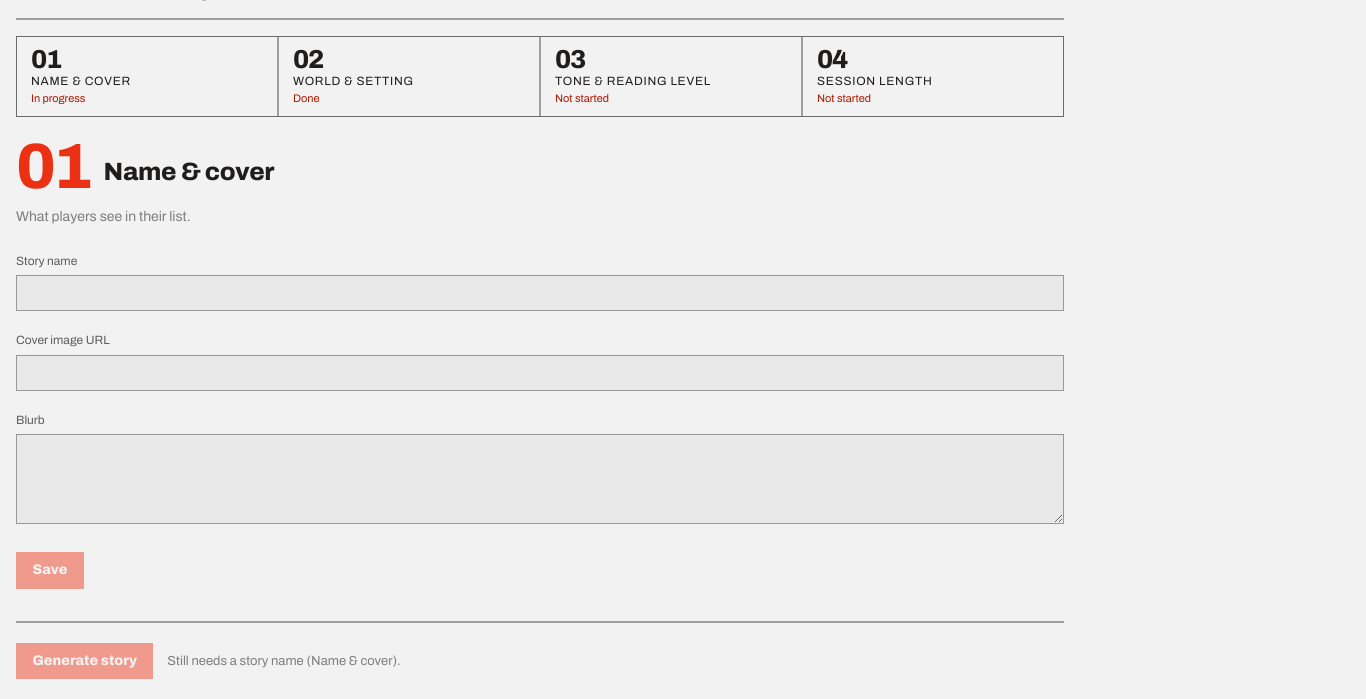
Scenario: Admin story creation: empty draft through generated, unpublished story › shows a rejected PATCH's reason next to the field that caused it, not a generic banner
The image size is (1366, 699).
Click the tab "02 World & setting Done".
click(409, 76)  # box [279, 37, 539, 116]
(page scrolled)
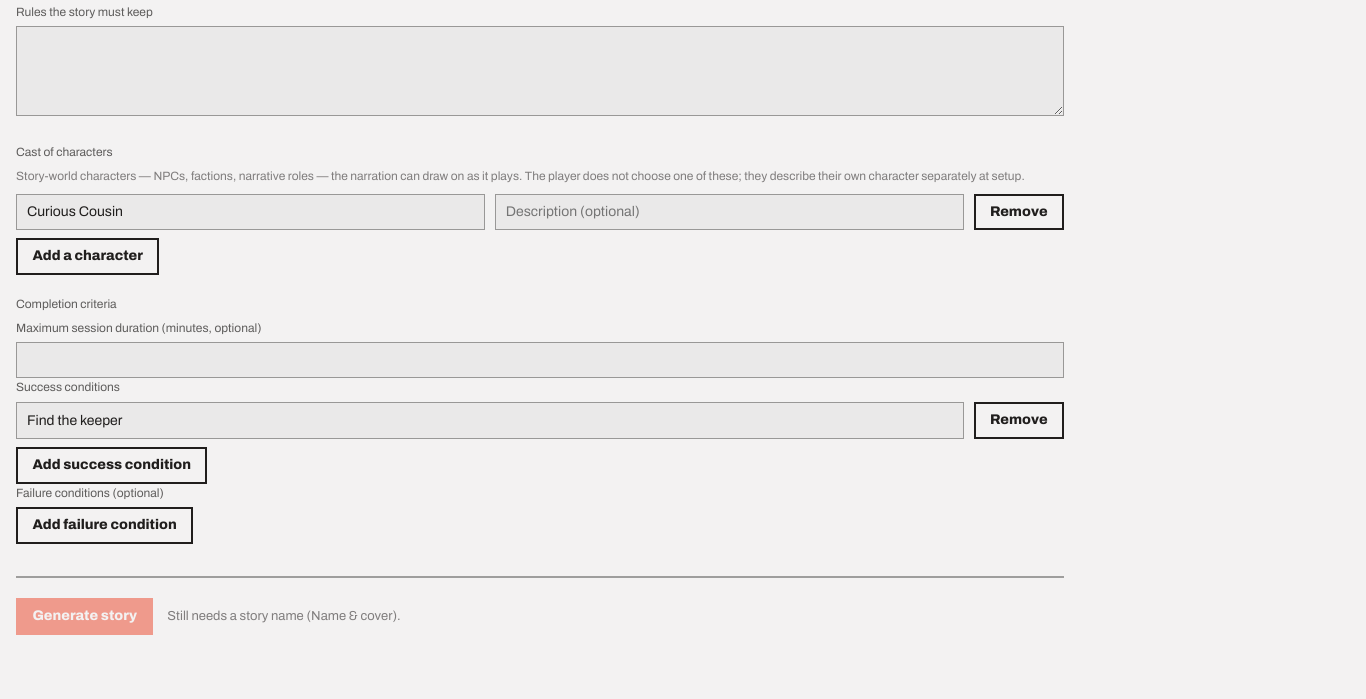
Click the button "Add failure condition".
click(105, 526)  # box [16, 507, 193, 544]
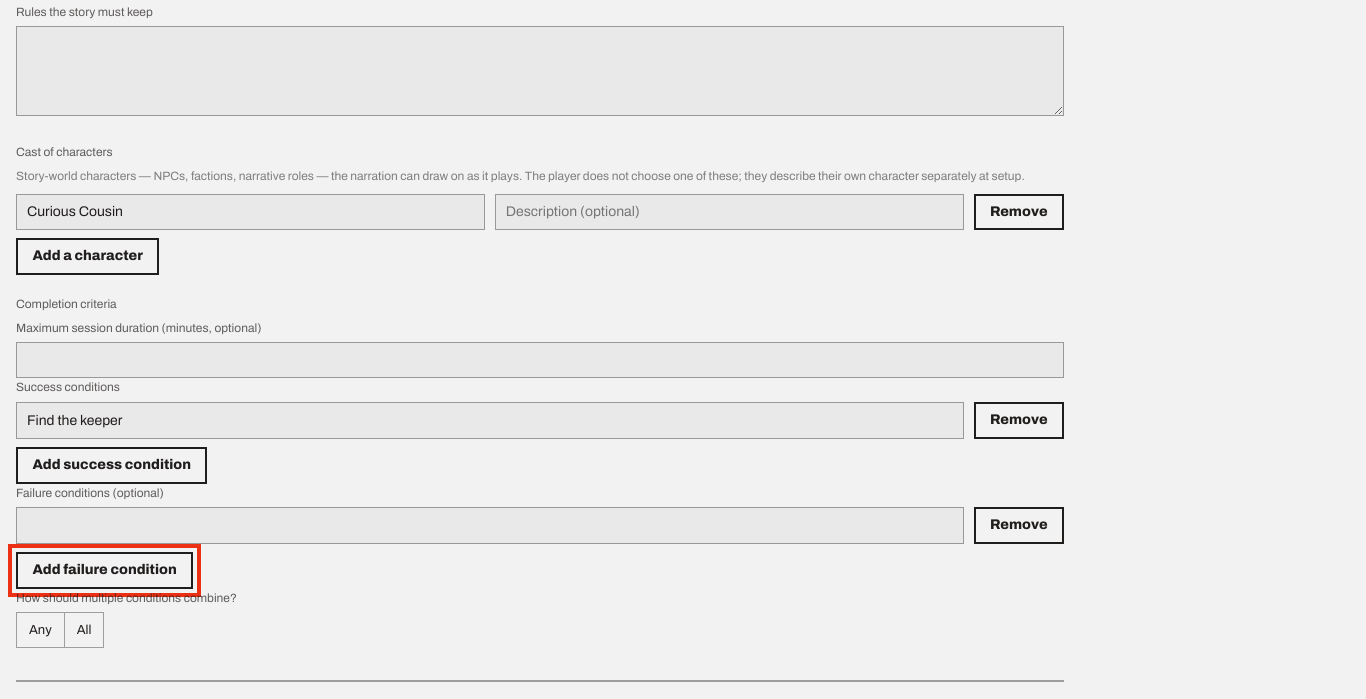
Type "Leave the cove" into the field named "failure condition".
click(490, 526); type("Leave the cove")  # box [16, 507, 964, 544]
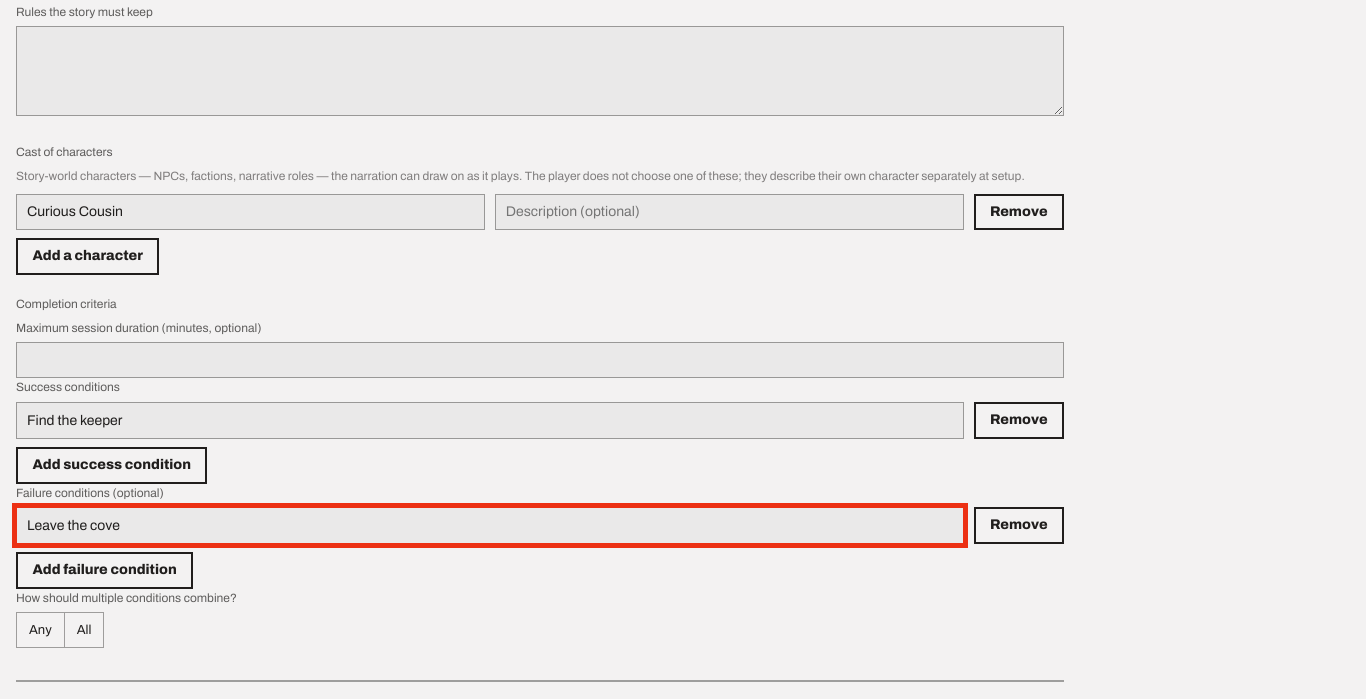
Press Tab
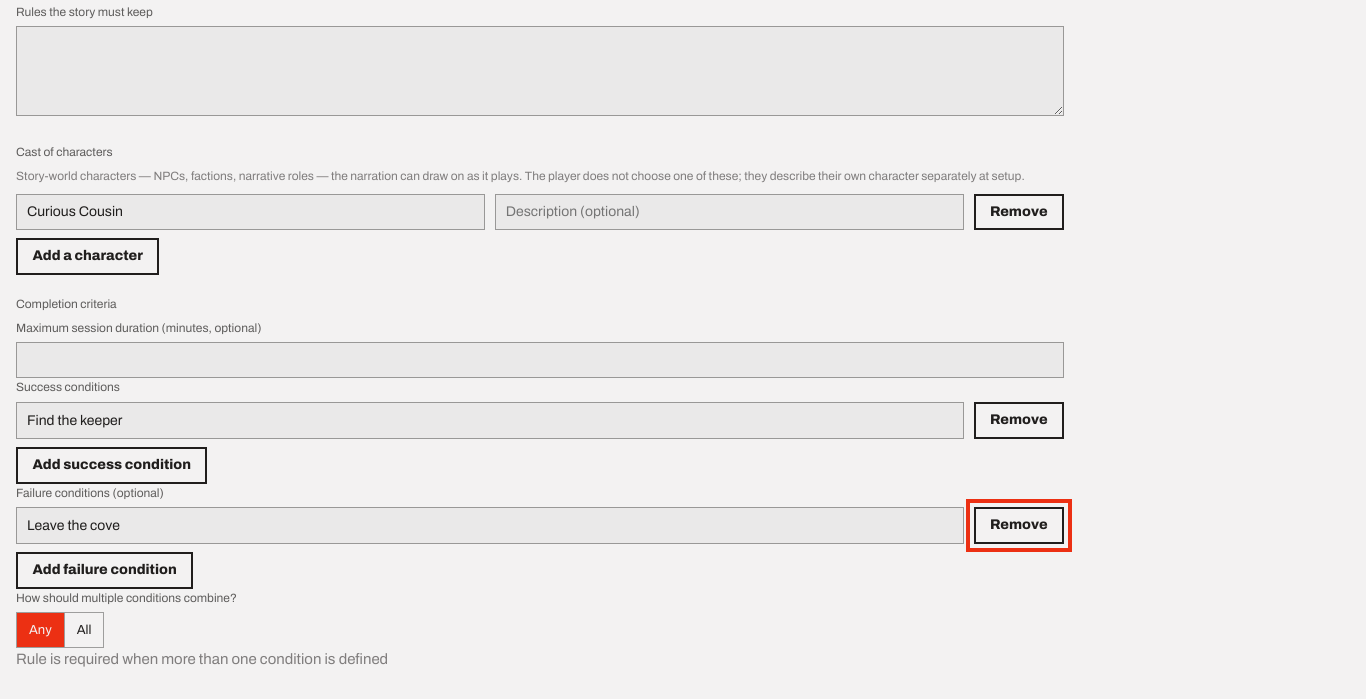
Result: the text "Rule is required when more than one condition is defined" is shown at [16, 652, 388, 668]
